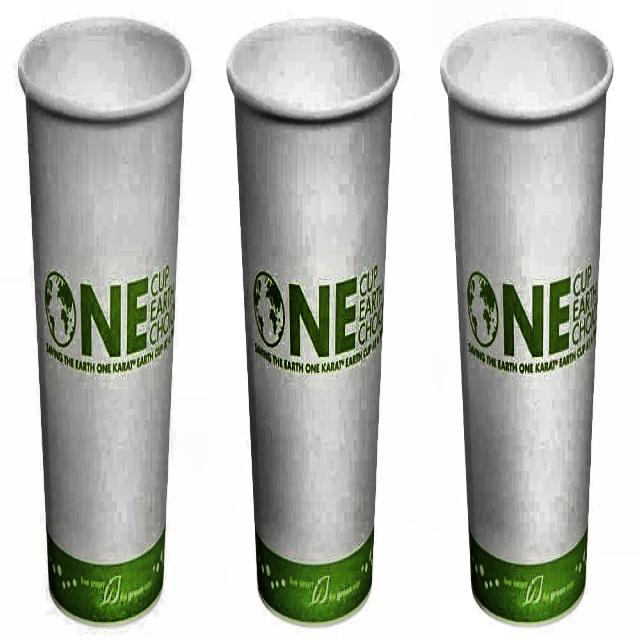Cup: (434, 6, 616, 625), (12, 11, 192, 621), (229, 4, 396, 632)
